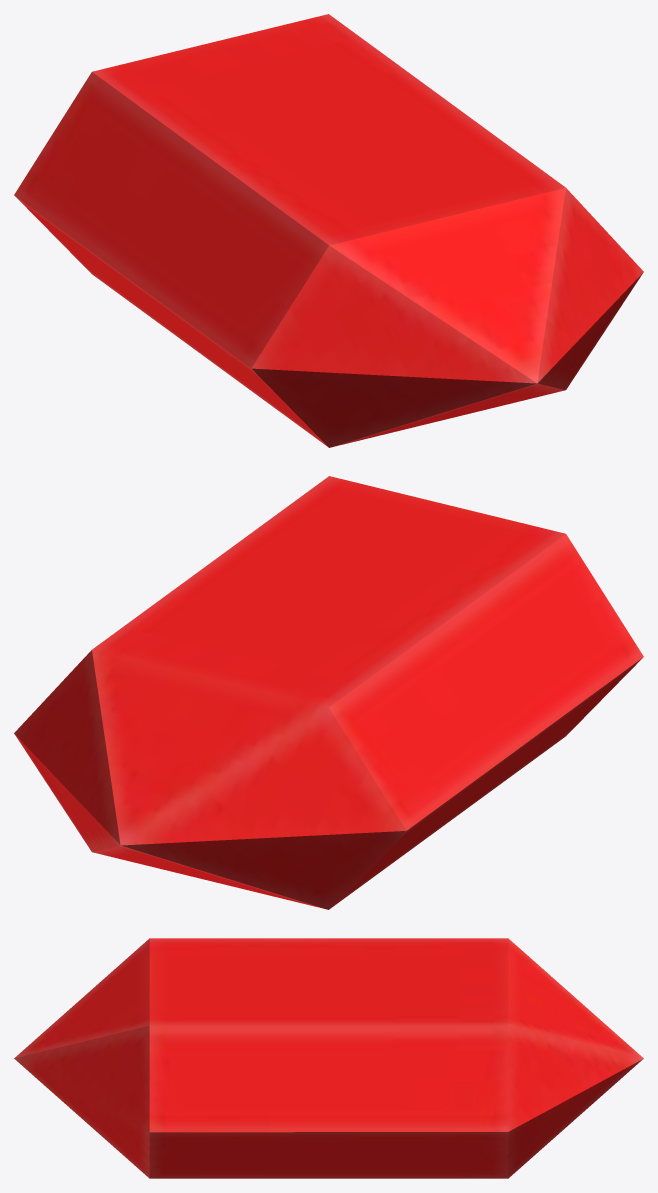
Rendered from gem01-art.glb.
3 views of the same model, one above another, from view 1: azimuth 30°, elevation 25°; view 2: azimuth 150°, elevation 25°; view 3: azimuth 270°, elevation 25° (orthographic). The views are drawn at different scales.
Visible parts, largest first — view 1: Gem01_Art; view 2: Gem01_Art; view 3: Gem01_Art.
Part boxes in pixels (x1,y1,x2,y2): Gem01_Art: (14,14,643,447); Gem01_Art: (14,476,643,909); Gem01_Art: (14,938,643,1178).
Bounding box in the file's own units: 0.1696 × 0.0836 × 0.3118.
1 material, 1 textured.
